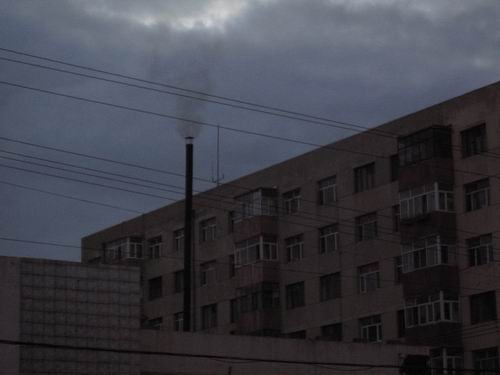dust: (156, 79, 216, 140)
